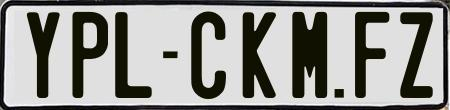C: (190, 9, 230, 102)
F: (355, 12, 390, 103)
K: (243, 9, 276, 101)
L: (114, 10, 157, 100)
M: (292, 12, 330, 101)
P: (69, 12, 109, 98)
Y: (27, 9, 66, 99)
Z: (400, 10, 432, 101)
